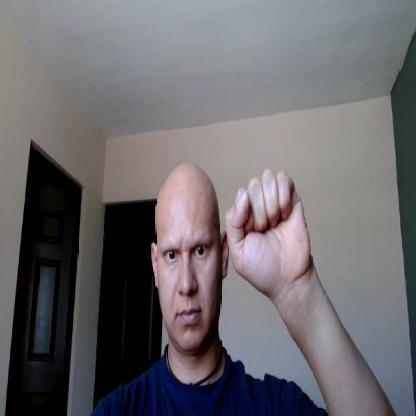S: (225, 166, 312, 291)
